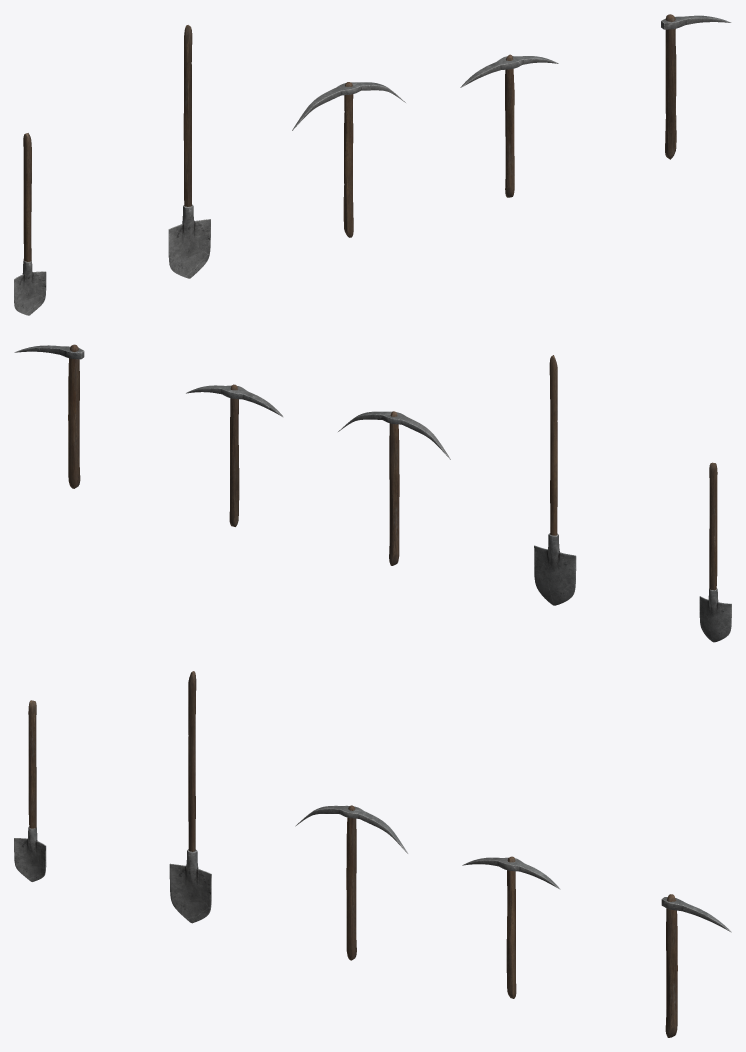
Rendered from Metal_Tools_A1.fbx.
3 views of the same model, one above another, from view 1: azimuth 30°, elevation 25°; view 2: azimuth 150°, elevation 25°; view 3: azimuth 330°, elevation 25° (orthographic).
Parts seen in each view (by area): view 1: Shovel_A1, Shovel_A1.001, Shovel_A2, Pickaxe_A1, Pickaxe_A3, Pickaxe_A2, Shovel_A2.001, Pickaxe_A1.001, Pickaxe_A2.001, Pickaxe_A3.001; view 2: Shovel_A1, Shovel_A1.001, Shovel_A2, Pickaxe_A1, Pickaxe_A3, Pickaxe_A2, Shovel_A2.001, Pickaxe_A1.001, Pickaxe_A3.001, Pickaxe_A2.001; view 3: Shovel_A1, Shovel_A1.001, Pickaxe_A1, Shovel_A2, Pickaxe_A2, Pickaxe_A3, Shovel_A2.001, Pickaxe_A1.001, Pickaxe_A3.001, Pickaxe_A2.001.
Boxes of the visible parts, bbox=[...] form: Shovel_A1: bbox=[168, 25, 210, 278]; Shovel_A1.001: bbox=[168, 26, 210, 278]; Shovel_A2: bbox=[14, 133, 46, 315]; Pickaxe_A1: bbox=[292, 82, 405, 237]; Pickaxe_A3: bbox=[661, 14, 730, 159]; Pickaxe_A2: bbox=[460, 54, 558, 197]; Shovel_A2.001: bbox=[14, 134, 46, 315]; Pickaxe_A1.001: bbox=[293, 82, 401, 236]; Pickaxe_A2.001: bbox=[461, 56, 556, 197]; Pickaxe_A3.001: bbox=[661, 15, 725, 159]; Shovel_A1: bbox=[534, 355, 576, 605]; Shovel_A1.001: bbox=[534, 358, 576, 605]; Shovel_A2: bbox=[699, 462, 731, 642]; Pickaxe_A1: bbox=[338, 411, 450, 565]; Pickaxe_A3: bbox=[14, 344, 84, 488]; Pickaxe_A2: bbox=[186, 384, 283, 526]; Shovel_A2.001: bbox=[699, 466, 731, 642]; Pickaxe_A1.001: bbox=[338, 411, 447, 565]; Pickaxe_A3.001: bbox=[17, 345, 83, 487]; Pickaxe_A2.001: bbox=[186, 385, 282, 525]; Shovel_A1: bbox=[169, 671, 211, 923]; Shovel_A1.001: bbox=[170, 672, 211, 922]; Pickaxe_A1: bbox=[295, 805, 408, 960]; Shovel_A2: bbox=[14, 700, 46, 881]; Pickaxe_A2: bbox=[462, 856, 559, 998]; Pickaxe_A3: bbox=[661, 894, 731, 1037]; Shovel_A2.001: bbox=[14, 701, 46, 881]; Pickaxe_A1.001: bbox=[296, 805, 407, 958]; Pickaxe_A3.001: bbox=[661, 895, 731, 1037]; Pickaxe_A2.001: bbox=[462, 857, 557, 998].
Size of the model in its own units: 448 by 150 by 9.55.
